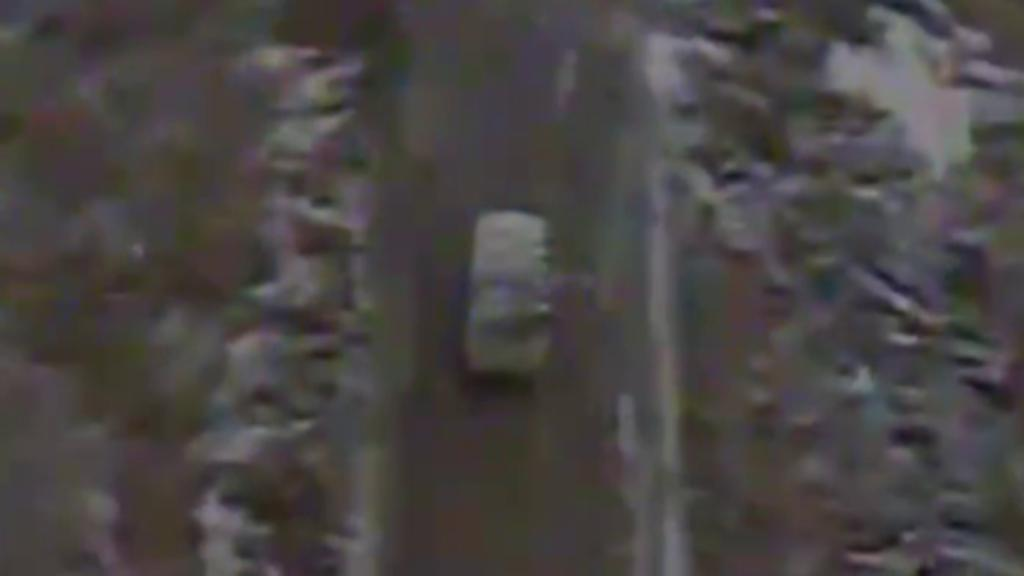CAR: (456, 202, 552, 384)
